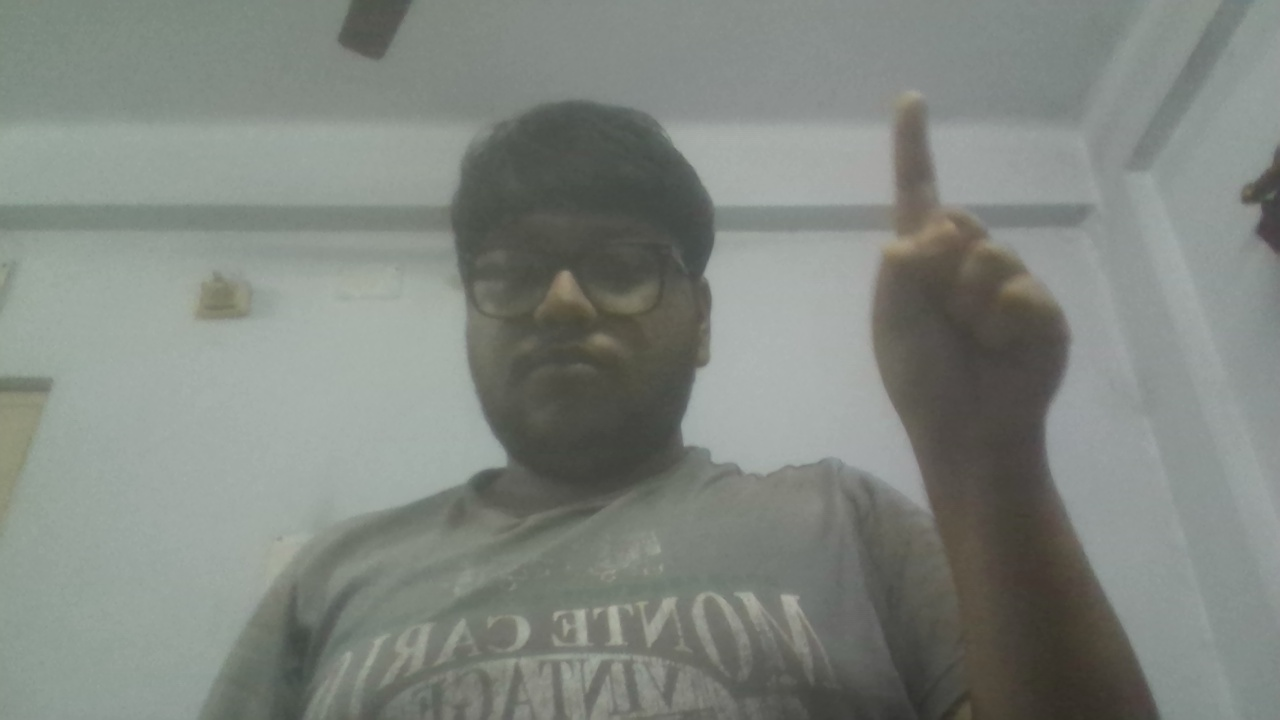Gesture1: (860, 83, 1085, 462)
